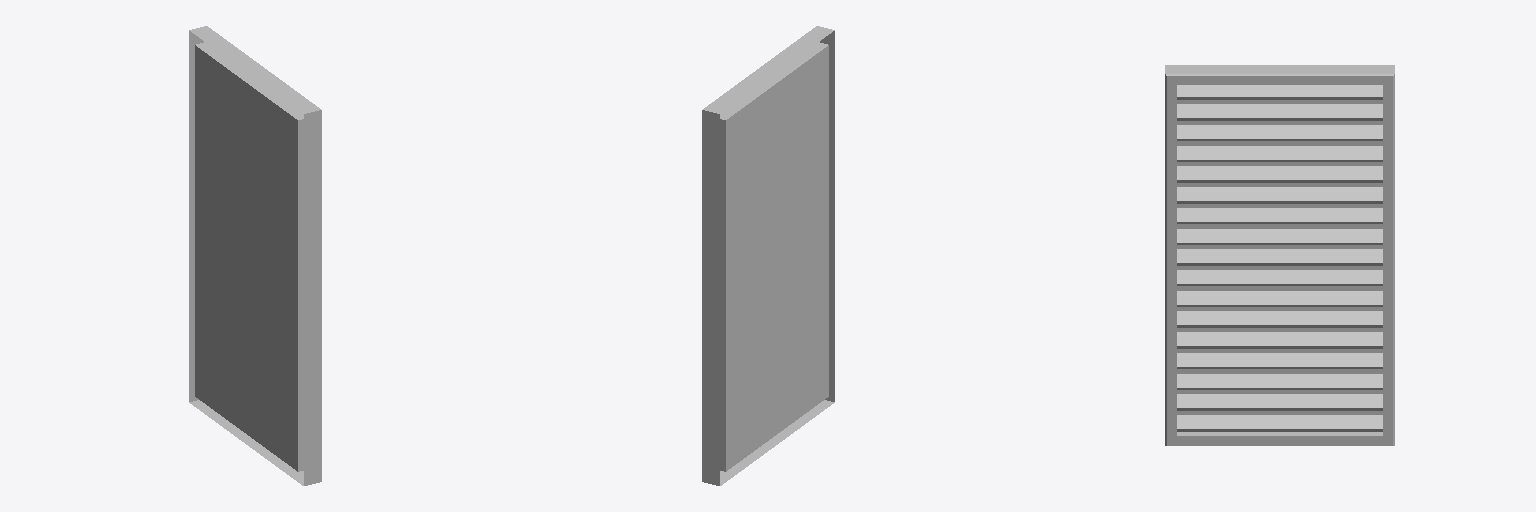
The model's file is vent3_Low.obj.
3 renders of one model, left to right at view 1: azimuth 30°, elevation 25°; view 2: azimuth 150°, elevation 25°; view 3: azimuth 270°, elevation 25°, orthographic.
Visible parts, largest first — view 1: Low; view 2: Low; view 3: Low.
Boxes of the visible parts, x1,y1,x2,y2 form: Low: [189, 26, 321, 485]; Low: [702, 26, 834, 485]; Low: [1165, 65, 1394, 445].
Size of the model in its own units: 0.1947 by 3.58 by 2.